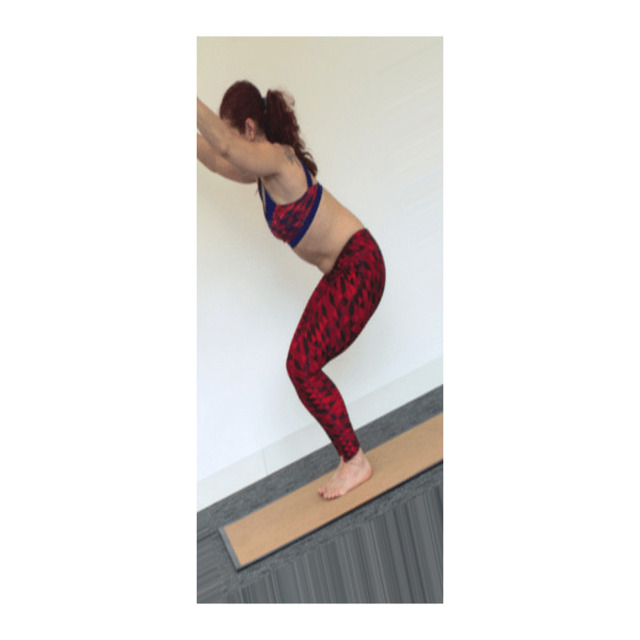Squat_Pose: (195, 74, 391, 502)
